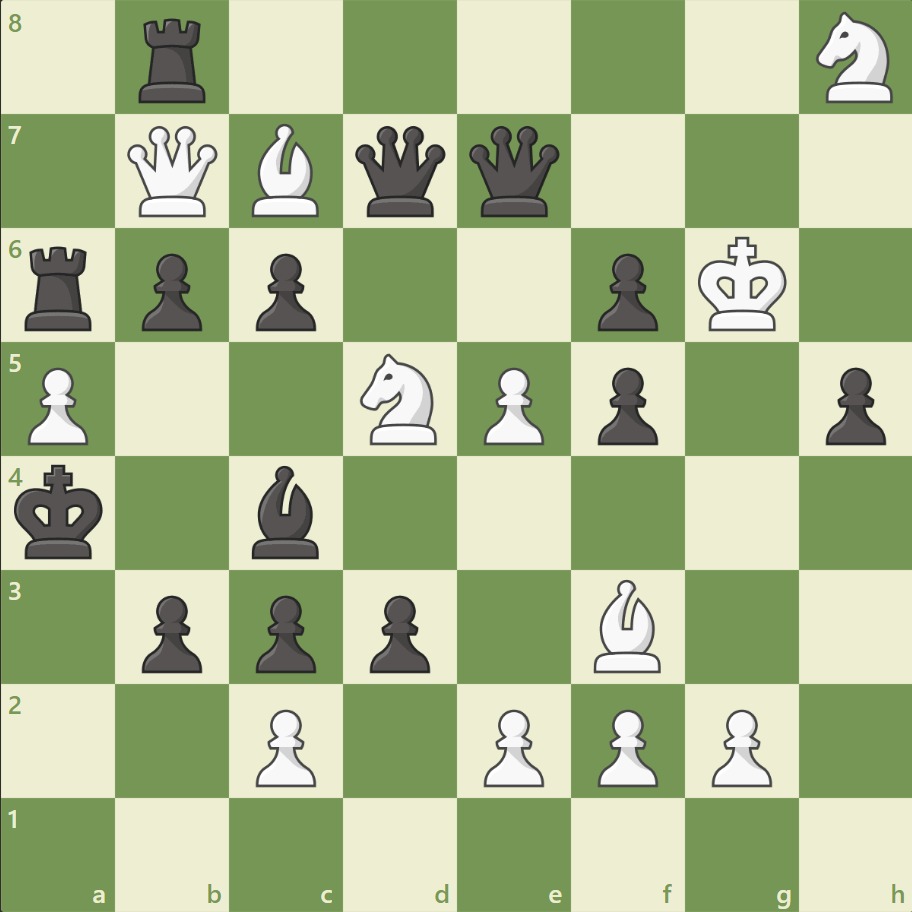B: (244, 120, 328, 222), (585, 574, 669, 676)
K: (692, 231, 792, 339)
N: (351, 348, 449, 450), (806, 7, 903, 110)
P: (20, 359, 95, 450), (474, 359, 549, 450), (247, 700, 322, 791), (474, 700, 549, 791), (701, 700, 776, 791), (588, 700, 662, 791)
Q: (124, 122, 223, 222)
b: (244, 460, 328, 563)
k: (11, 458, 111, 566)
p: (133, 246, 208, 337), (247, 246, 322, 337), (133, 586, 208, 677), (247, 586, 322, 677), (588, 246, 662, 337), (588, 359, 662, 450), (815, 359, 889, 450), (361, 586, 435, 677)
q: (351, 122, 450, 222), (464, 122, 563, 222)
r: (19, 239, 102, 336), (133, 12, 215, 109)
